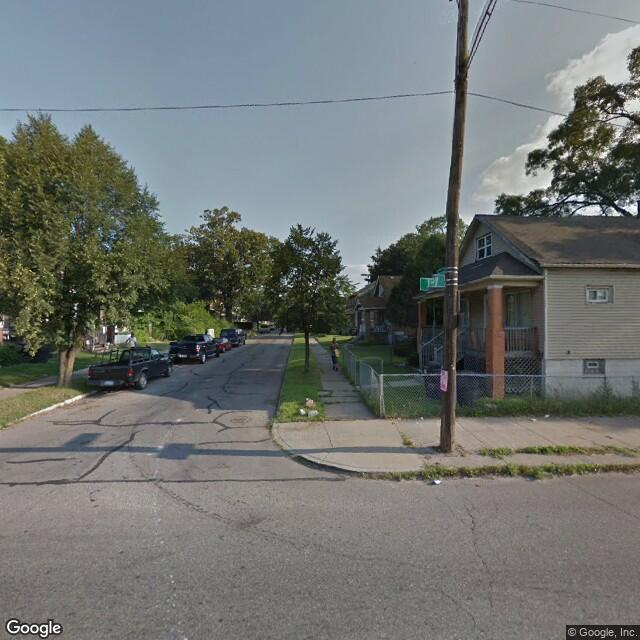litter: (295, 391, 319, 420), (525, 408, 553, 425), (426, 471, 446, 487)
